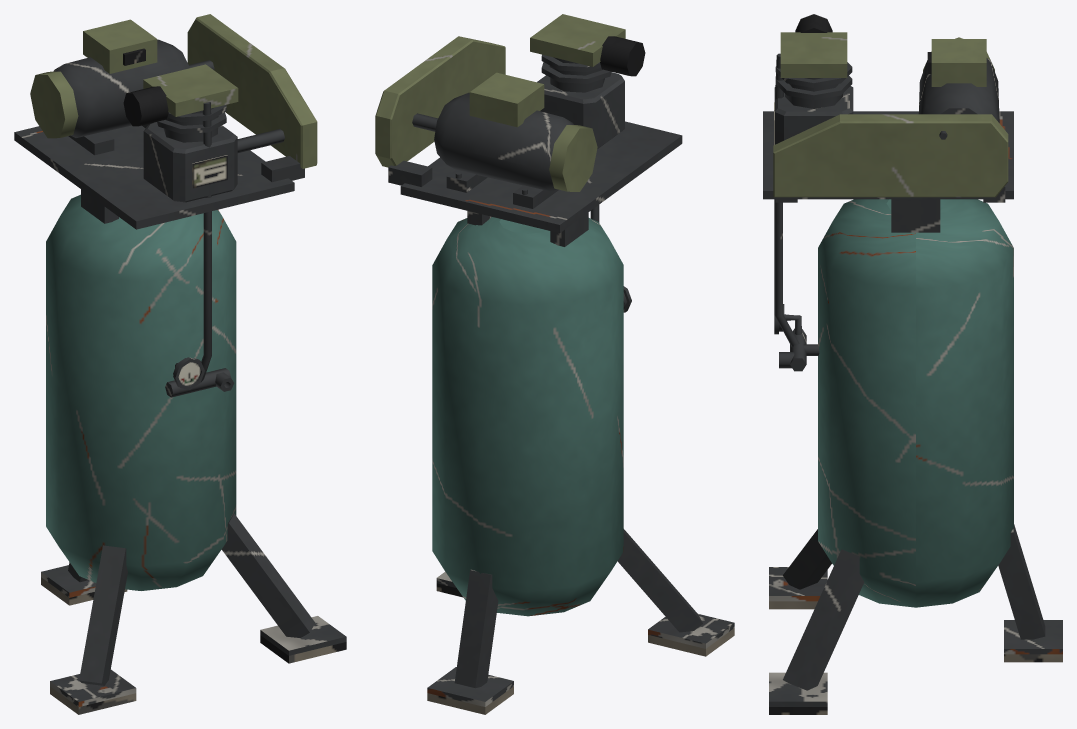
Rendered from industry_air_compressor_vertical.glb.
The picture shows the model from 3 angles, left to right: view 1: azimuth 30°, elevation 25°; view 2: azimuth 150°, elevation 25°; view 3: azimuth 270°, elevation 25°; orthographic projection. The views are drawn at different scales.
Parts seen in each view (by area): view 1: AirCompressor; view 2: AirCompressor; view 3: AirCompressor.
Boxes of the visible parts, bbox=[...] form: AirCompressor: bbox=[14, 14, 346, 714]; AirCompressor: bbox=[375, 14, 734, 714]; AirCompressor: bbox=[763, 14, 1062, 714].
Size of what is drawn, in the model's own units: 0.65 by 1.36 by 0.612.
1 material, 1 textured.
